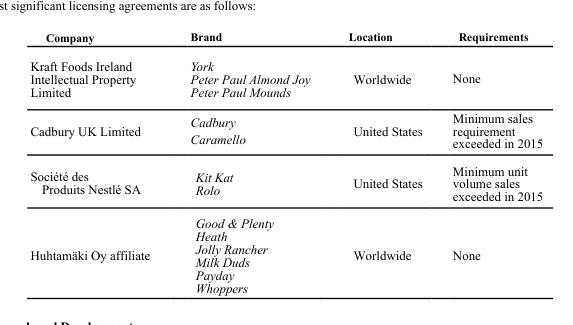table: (29, 29, 542, 294)
table column: (169, 29, 328, 294), (29, 29, 169, 294), (328, 29, 436, 294), (436, 29, 542, 294)
table column header: (29, 29, 542, 50)
table row: (29, 209, 542, 294), (29, 50, 542, 104), (29, 156, 542, 209), (29, 104, 542, 156), (29, 29, 542, 50)
